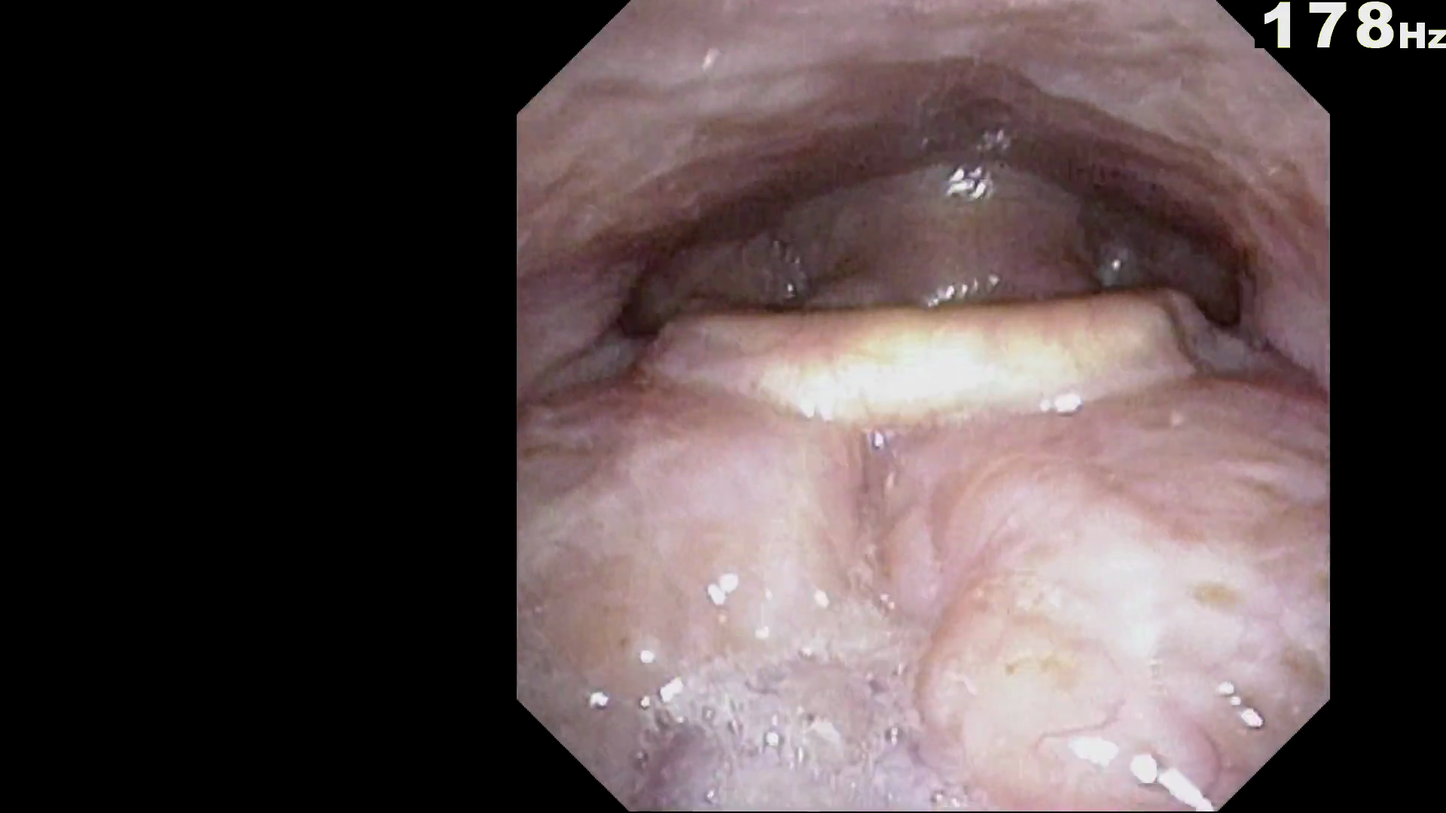epiglottis: (639, 255, 1238, 485)
